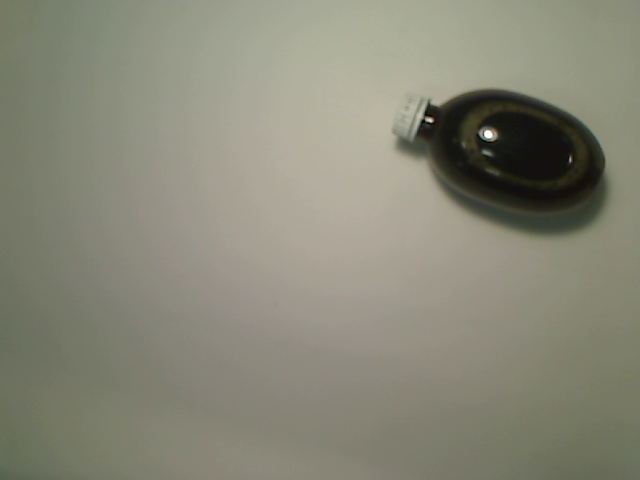plast_bottle: (389, 86, 608, 220)
